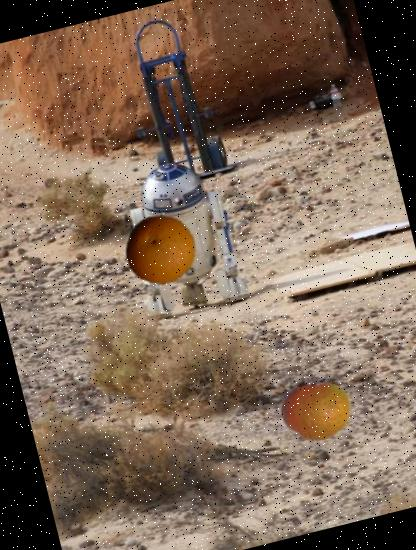Mandarine: (274, 369, 360, 455)
Orange: (117, 205, 205, 293)
